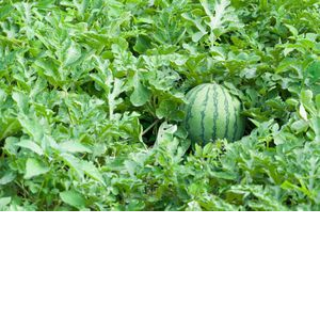dua_hau: (177, 80, 250, 148)
